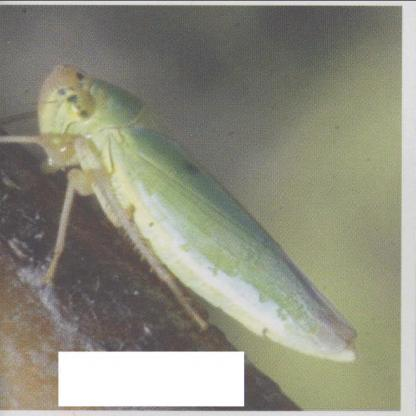Green-Leafhopper: (9, 55, 375, 364)
